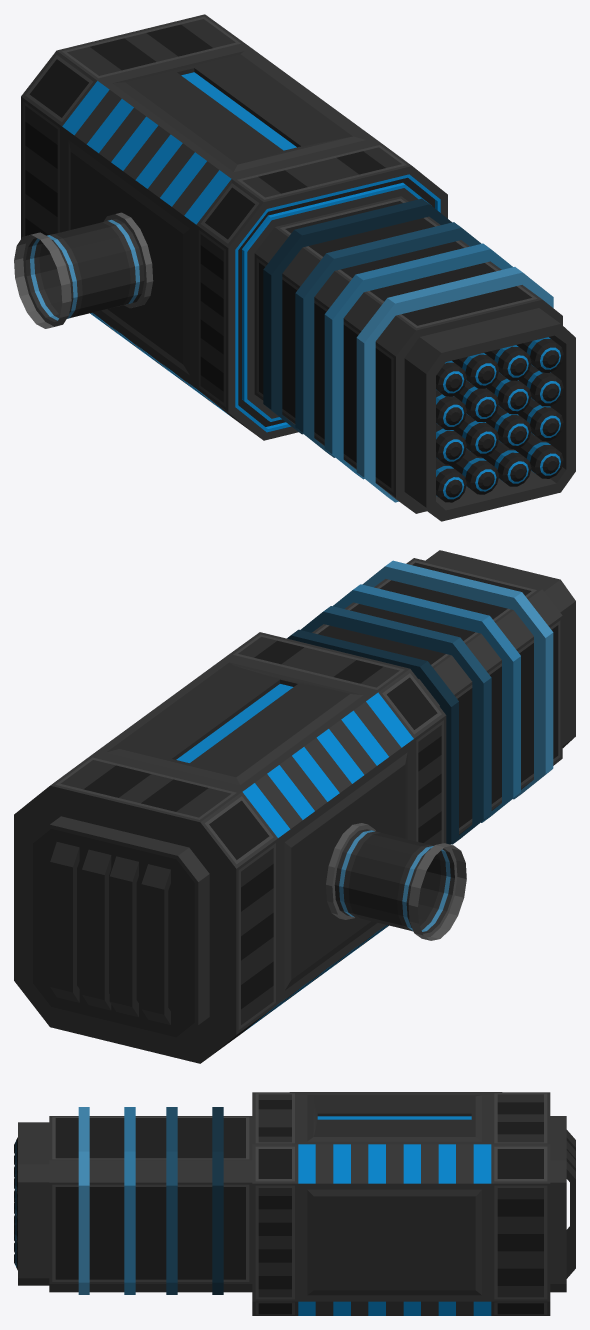
Rendered from TRg.FBX.
3 views of the same model, one above another, from view 1: azimuth 30°, elevation 25°; view 2: azimuth 150°, elevation 25°; view 3: azimuth 270°, elevation 25° (orthographic). The views are drawn at different scales.
Parts seen in each view (by area): view 1: LTg; view 2: LTg; view 3: LTg.
Part boxes in pixels (<box>): LTg: <box>14,14,575,521</box>; LTg: <box>14,550,575,1063</box>; LTg: <box>14,1092,575,1315</box>.
Bounding box in the file's own units: 137 × 101 × 295.
